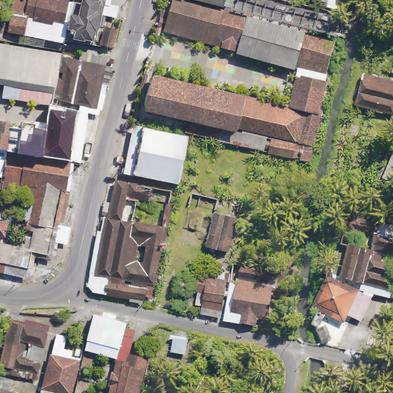building: (145, 75, 246, 132), (3, 155, 71, 228), (163, 0, 246, 52), (236, 16, 305, 70), (239, 96, 306, 143), (18, 106, 77, 159), (0, 43, 61, 93), (123, 223, 167, 287), (136, 128, 186, 184), (0, 322, 48, 374), (311, 275, 359, 327), (0, 223, 53, 268), (7, 0, 69, 35), (85, 314, 127, 359), (231, 281, 272, 326), (74, 61, 113, 108), (110, 221, 138, 284), (295, 33, 335, 74), (108, 354, 148, 393), (41, 354, 80, 393), (288, 76, 327, 115), (95, 218, 119, 278), (68, 0, 102, 41), (206, 213, 237, 252), (54, 57, 79, 104), (196, 275, 226, 311), (300, 114, 321, 162), (358, 74, 393, 101), (354, 93, 393, 115), (107, 181, 128, 220), (105, 283, 147, 301), (339, 244, 360, 280), (238, 265, 275, 285), (353, 247, 373, 283), (268, 138, 300, 159), (0, 121, 21, 152), (345, 215, 379, 233), (372, 234, 393, 255), (363, 271, 386, 290), (100, 27, 118, 48), (367, 260, 386, 276), (194, 0, 225, 7), (0, 149, 6, 177), (0, 221, 8, 238), (0, 390, 13, 393), (315, 0, 328, 3)
